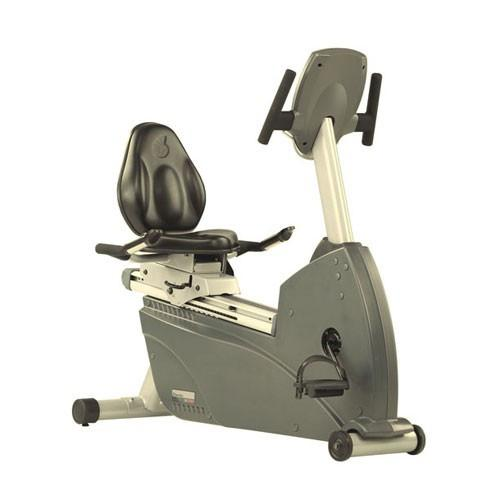gym_bike: (86, 41, 427, 474)
